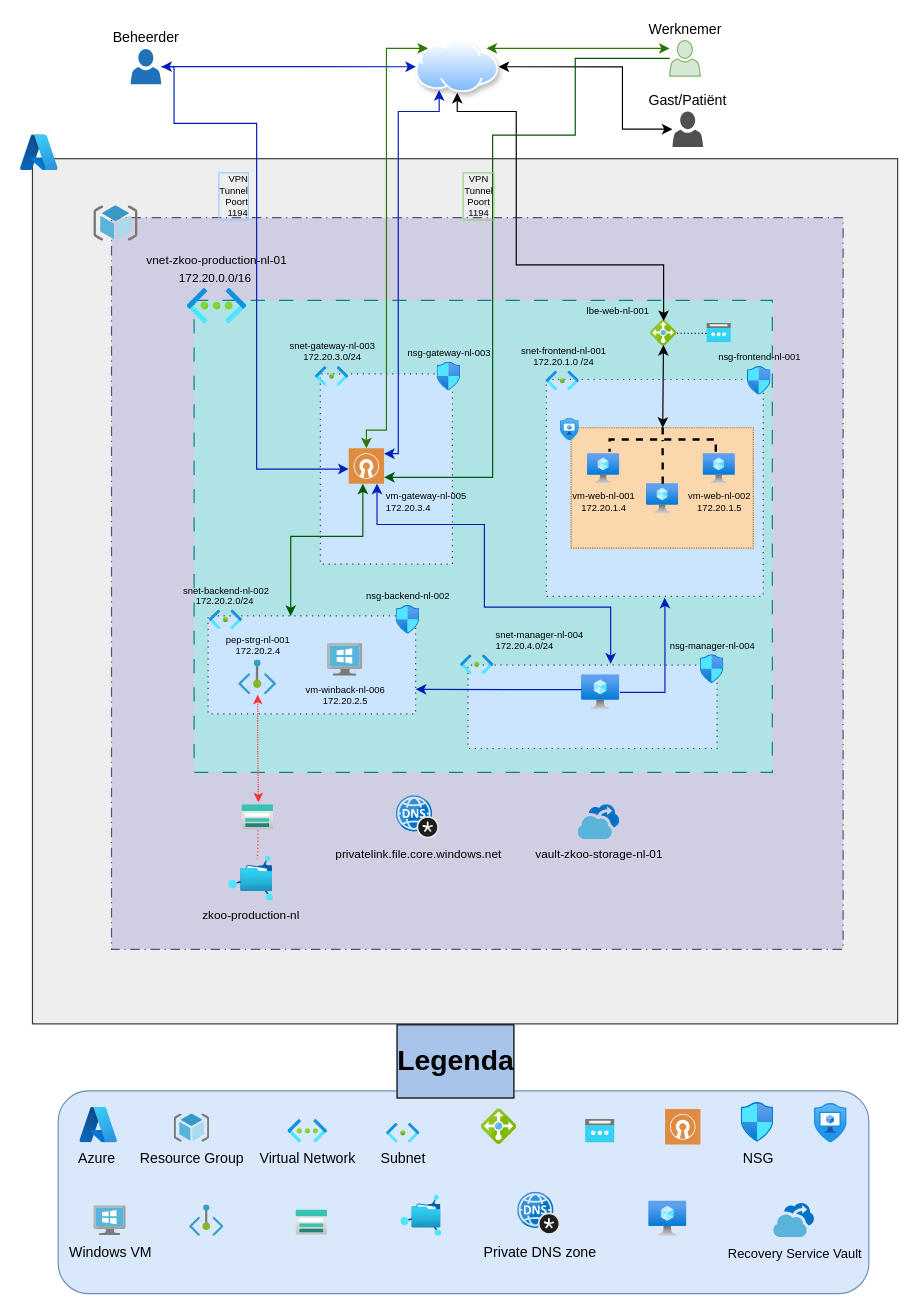
Image size: 918x1315. Some labels were removed from this diagram. Each missing label, with the centre of its shape:
"2526_DK06_casusgr02" goes at (x=115, y=223).
"ASG" goes at (x=830, y=1123).
"asg-webservers-nl-001" goes at (x=569, y=429).
"Endpoint" goes at (x=206, y=1220).
"File Share" goes at (x=420, y=1215).
"Internet" goes at (x=458, y=67).
"Load Balancer" goes at (x=498, y=1126).
"pip-lbe-web-nl-001 172.201.60.76" goes at (x=718, y=332).
"Public IP" goes at (x=600, y=1131).
"Storage Acount" goes at (x=311, y=1222).
"strgprodzkoonl001" goes at (x=257, y=817).
"Virtual Machine" goes at (x=667, y=1218).
"vm-manager-nl-004 172.20.4.4" goes at (x=600, y=692).
"vm-web-nl-003 172.20.1.6" goes at (x=662, y=498).
"VPN VM" goes at (x=682, y=1126).
